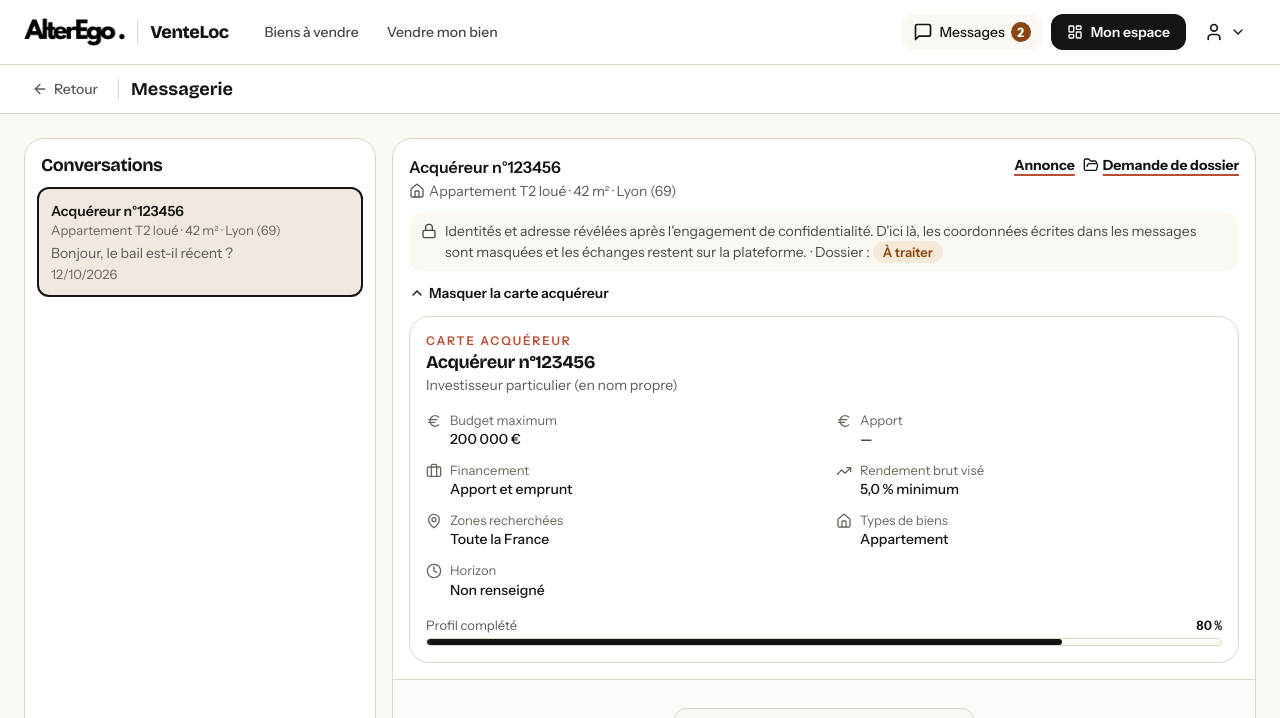
Test case: MessagesPage › vendeur : conversation ouverte, carte acquéreur dépliée, messages triés, marquée lue
Expected: the button with test id "conversation-conv1" shows "Acquéreur n°123456", [37,187,363,297]
Click the button with test id "toggle-buyer-card" at (509, 293), box [409,283,609,303]
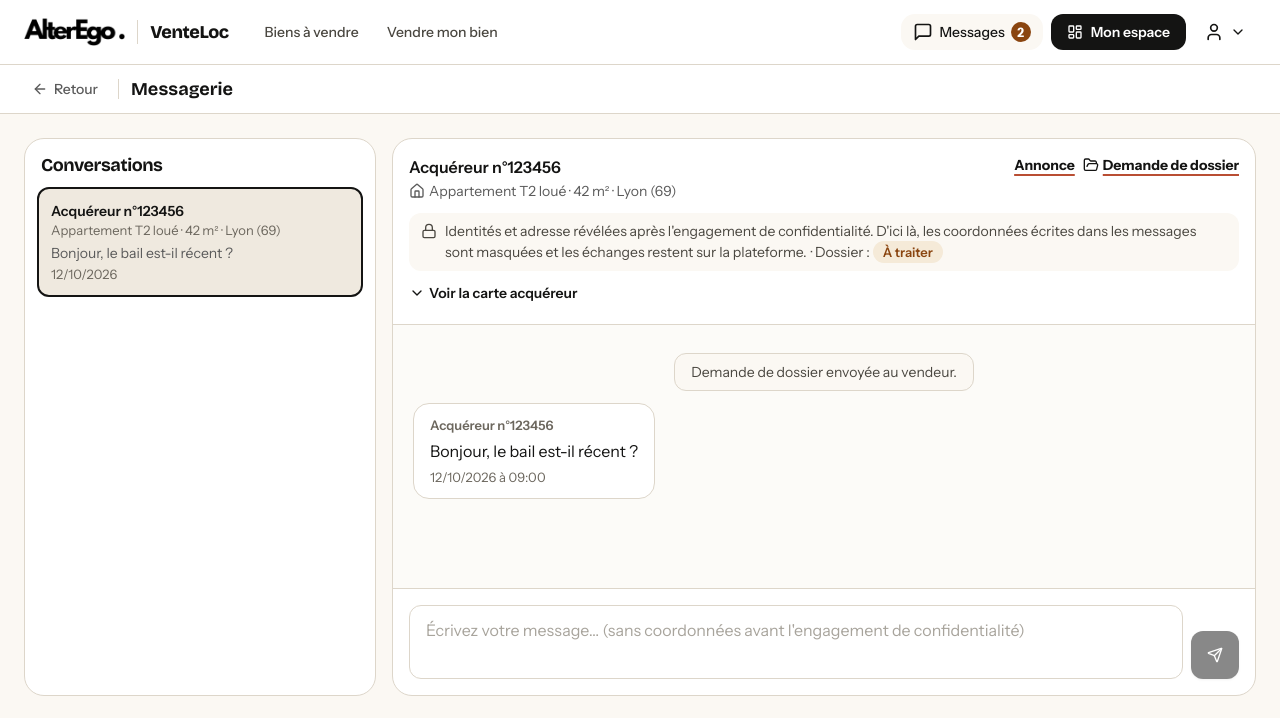
Expected: the element with test id "identity-banner" shows "révélées après l'engagement de confidentialité", [445,222,1196,261]
Now the button with test id "toggle-buyer-card" is collapsed, box [409,283,578,303]
